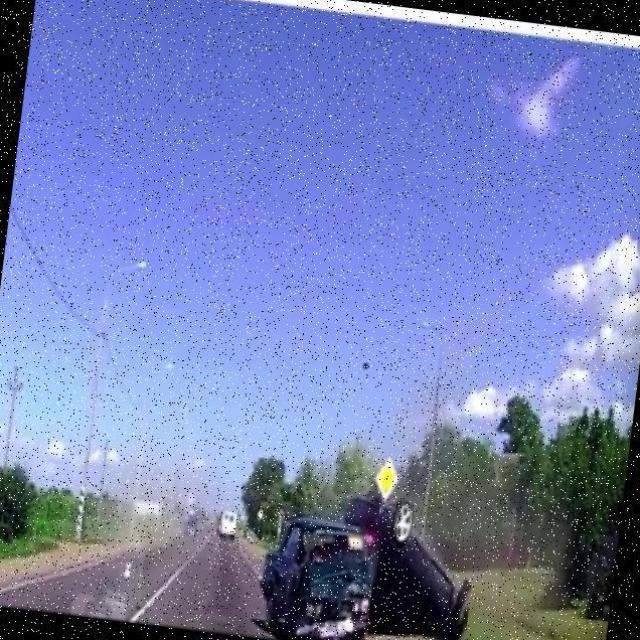accident: (256, 488, 484, 640)
